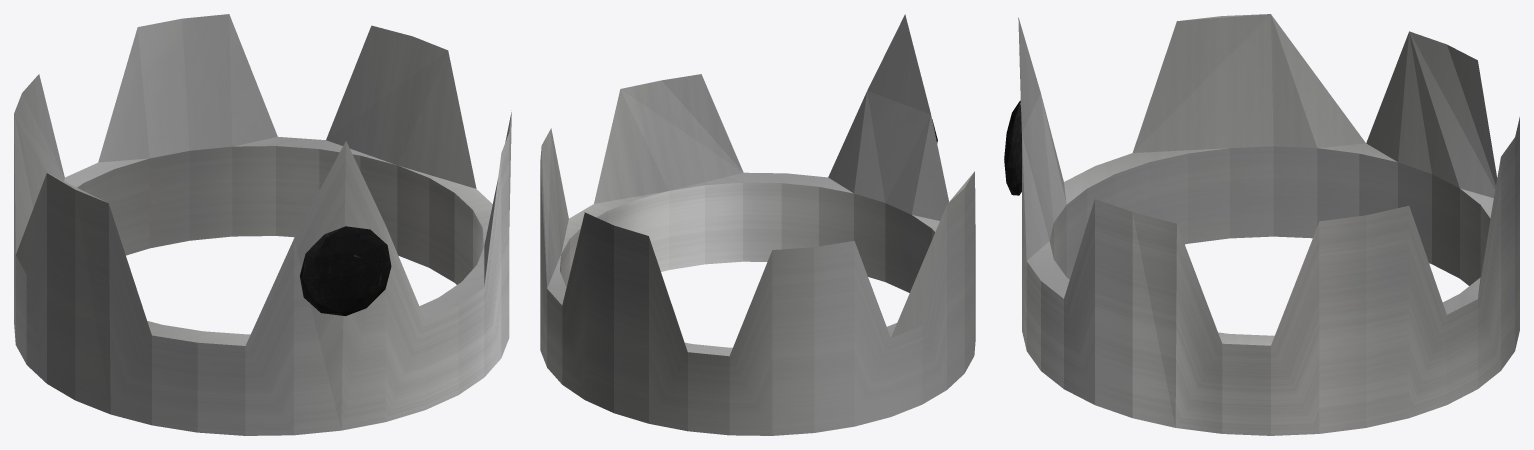
Rendered from blackTexturedCrown.dae.
The picture shows the model from 3 angles, left to right: view 1: azimuth 30°, elevation 25°; view 2: azimuth 150°, elevation 25°; view 3: azimuth 270°, elevation 25°; orthographic projection. The views are drawn at different scales.
Visible parts, largest first — view 1: blackCrown; view 2: blackCrown; view 3: blackCrown.
Part boxes in pixels (x1,y1,x2,y2): blackCrown: [14, 14, 511, 435]; blackCrown: [540, 14, 975, 435]; blackCrown: [1004, 14, 1519, 435].
Size of the model in its own units: 0.1 by 0.0652 by 0.1036.
2 materials, 2 textured.
